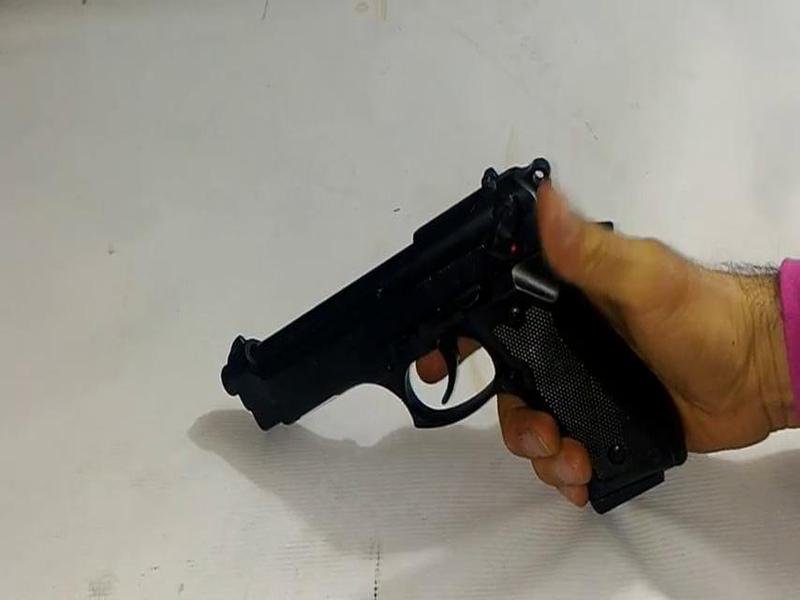Pistola: (224, 143, 671, 514)
